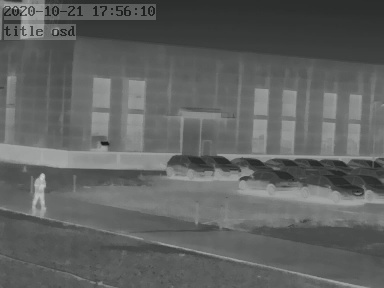person: (31, 168, 46, 211)
vehicle: (304, 173, 359, 200), (237, 169, 302, 191), (165, 153, 211, 178), (206, 153, 242, 177), (352, 174, 384, 201), (233, 154, 270, 171), (348, 156, 381, 171), (261, 155, 296, 169), (317, 156, 347, 170), (296, 155, 325, 169)
